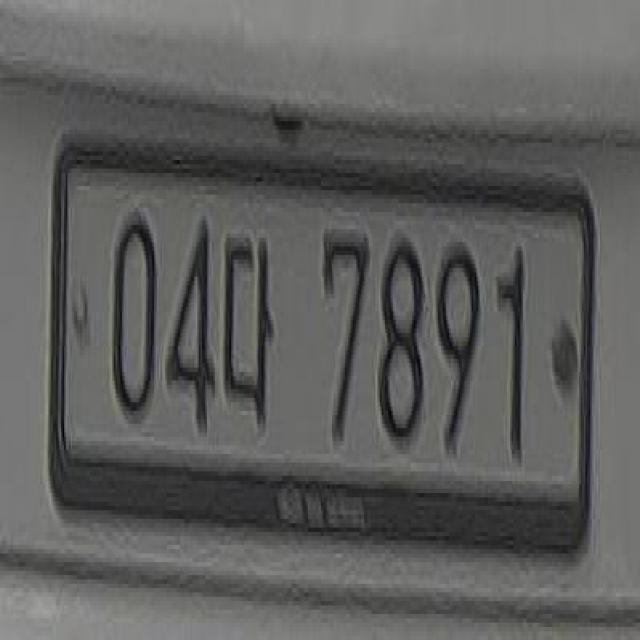illegal_plate: (51, 148, 606, 571)
